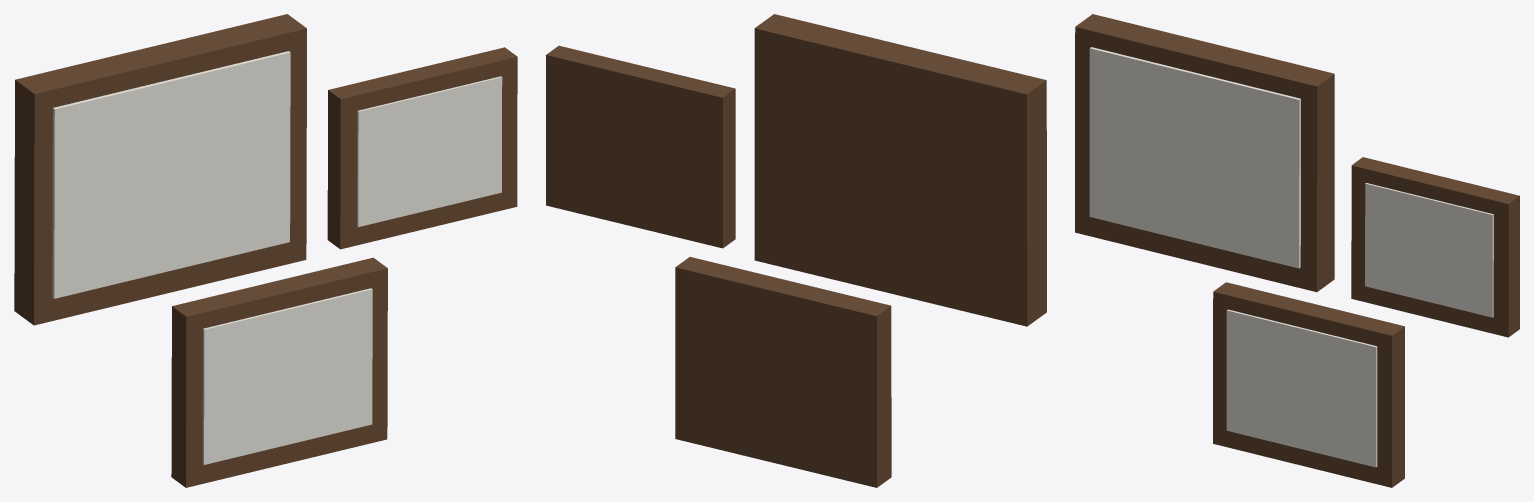
Rendered from Fotos.fbx.
3 renders of one model, left to right at view 1: azimuth 30°, elevation 25°; view 2: azimuth 150°, elevation 25°; view 3: azimuth 330°, elevation 25°, orthographic. The views are drawn at different scales.
Parts seen in each view (by area): view 1: Deco_Estanteria_Objetos.003; view 2: Deco_Estanteria_Objetos.003; view 3: Deco_Estanteria_Objetos.003.
Boxes of the visible parts, x1=… form: Deco_Estanteria_Objetos.003: x1=14, y1=14, x2=517, y2=487; Deco_Estanteria_Objetos.003: x1=546, y1=14, x2=1046, y2=487; Deco_Estanteria_Objetos.003: x1=1075, y1=14, x2=1519, y2=487.
Bounding box in the file's own units: 0.768 × 0.6545 × 0.0603.
